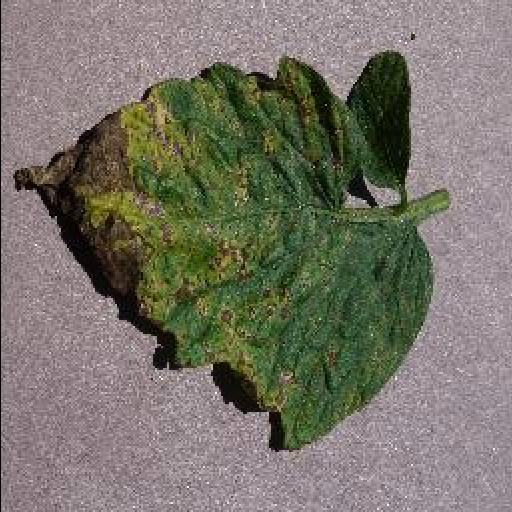disease_tomato: (8, 52, 434, 448)
